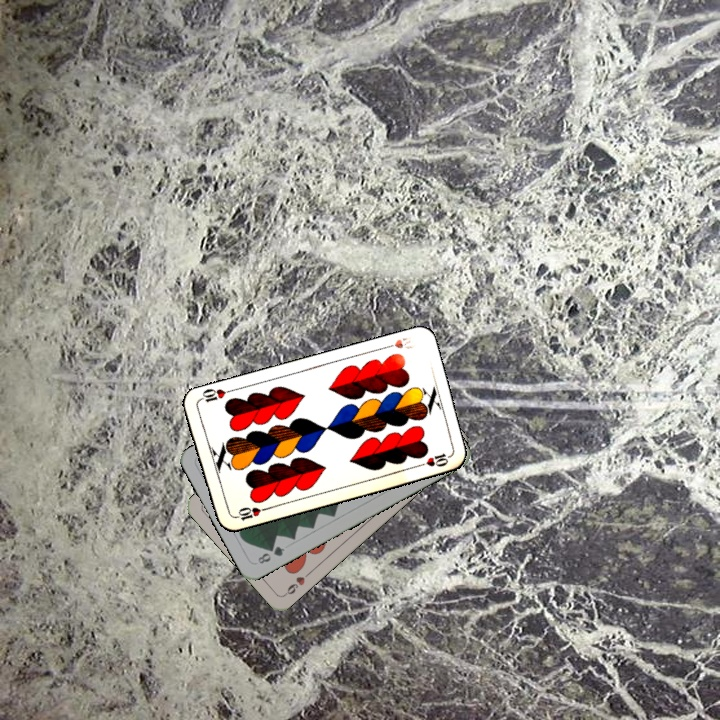G8: (253, 542, 287, 567)
H10: (230, 503, 270, 523), (379, 333, 418, 352)
H9: (281, 567, 314, 598)
